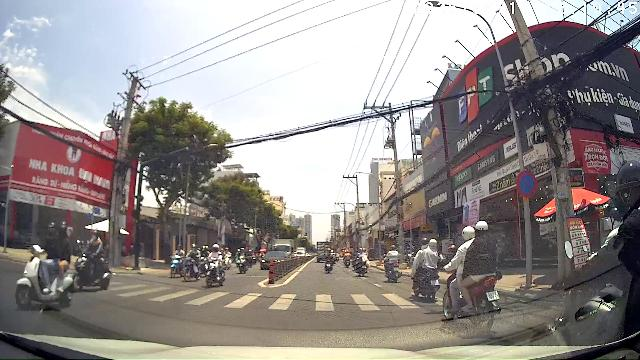131a-cam-do-xe: (516, 170, 538, 197)
